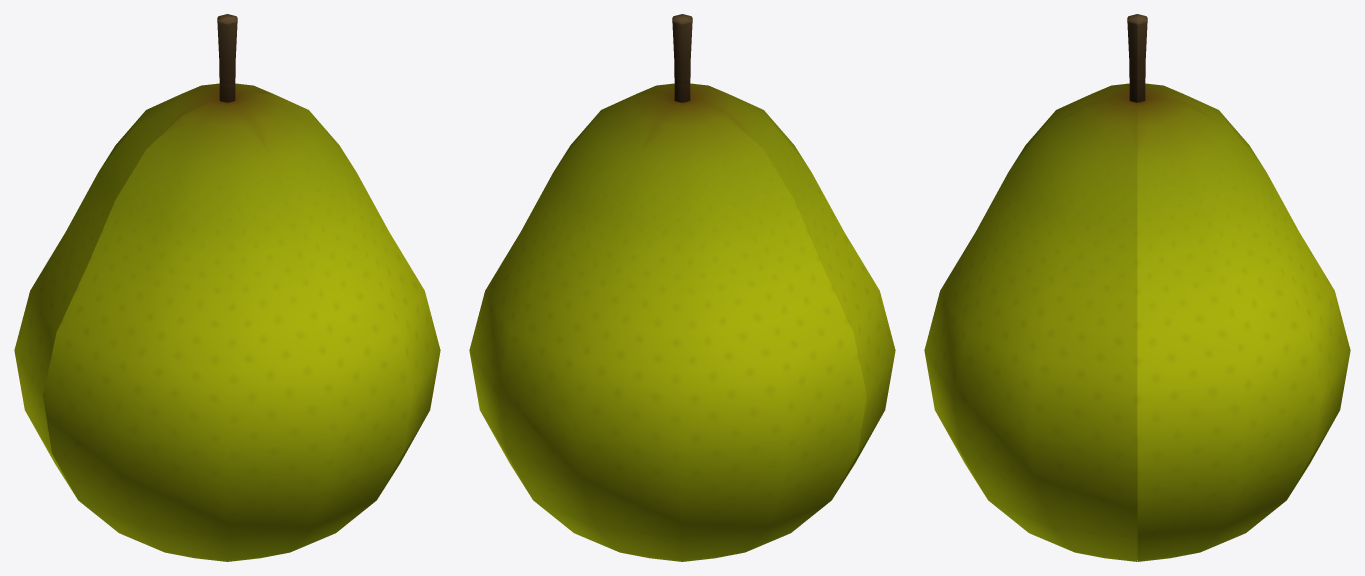
3 renders of one model, left to right at view 1: azimuth 30°, elevation 25°; view 2: azimuth 150°, elevation 25°; view 3: azimuth 270°, elevation 25°, orthographic.
Visible parts, largest first — view 1: Pear_Half_Back001, Pear_Half_Front001; view 2: Pear_Half_Front001, Pear_Half_Back001; view 3: Pear_Half_Front001, Pear_Half_Back001.
Boxes of the visible parts, left/top/right/bottom form: Pear_Half_Back001: left=43, top=16, right=440, bottom=561; Pear_Half_Front001: left=14, top=14, right=272, bottom=497; Pear_Half_Front001: left=469, top=16, right=866, bottom=561; Pear_Half_Back001: left=637, top=14, right=895, bottom=497; Pear_Half_Front001: left=1137, top=14, right=1350, bottom=561; Pear_Half_Back001: left=924, top=14, right=1137, bottom=561.
Size of the model in its own units: 15 by 20.44 by 15.
Materials: 3 (3 with a texture image).
